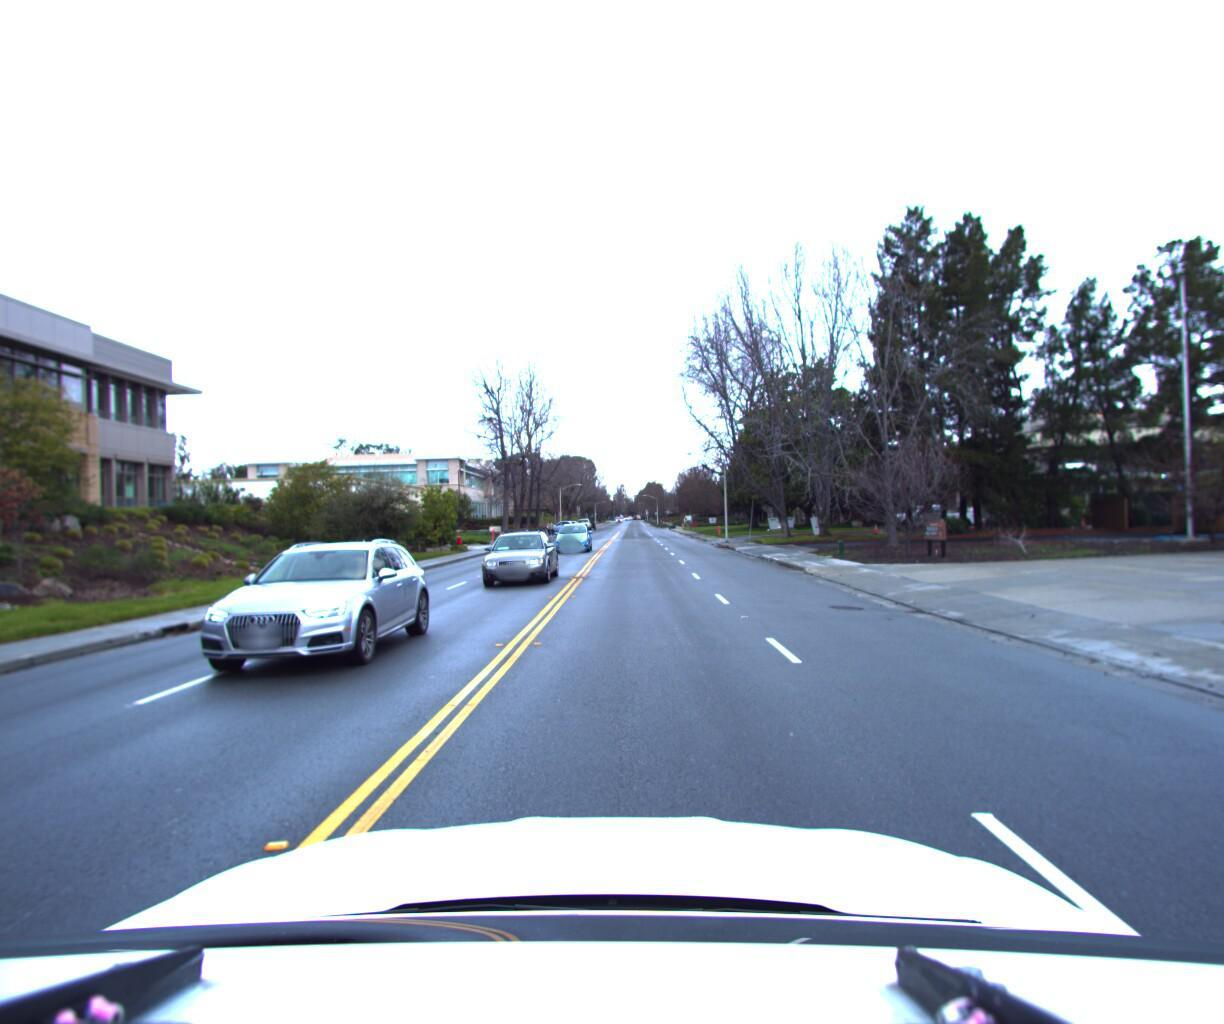car: (173, 533, 447, 695), (482, 527, 564, 589), (555, 523, 595, 556)
